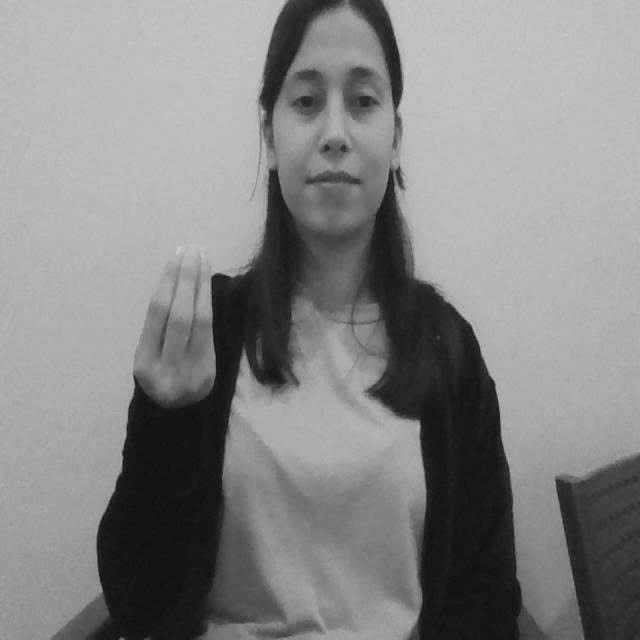iyi: (127, 232, 225, 412)
